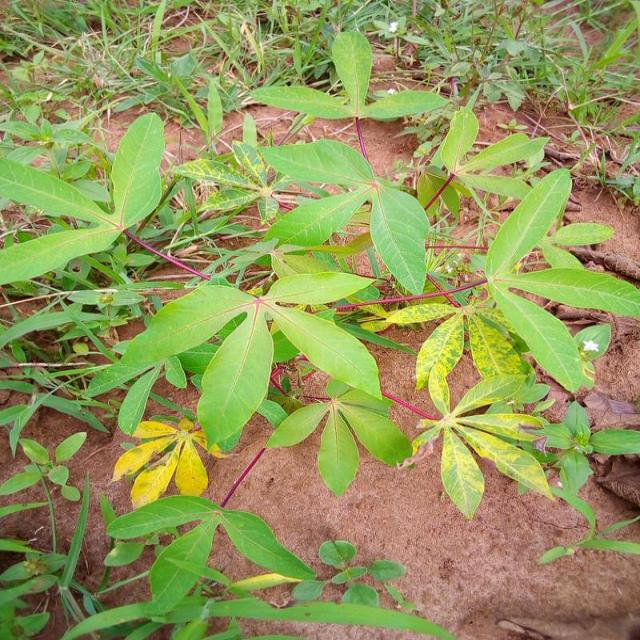cassava leaf: (195, 302, 274, 456)
